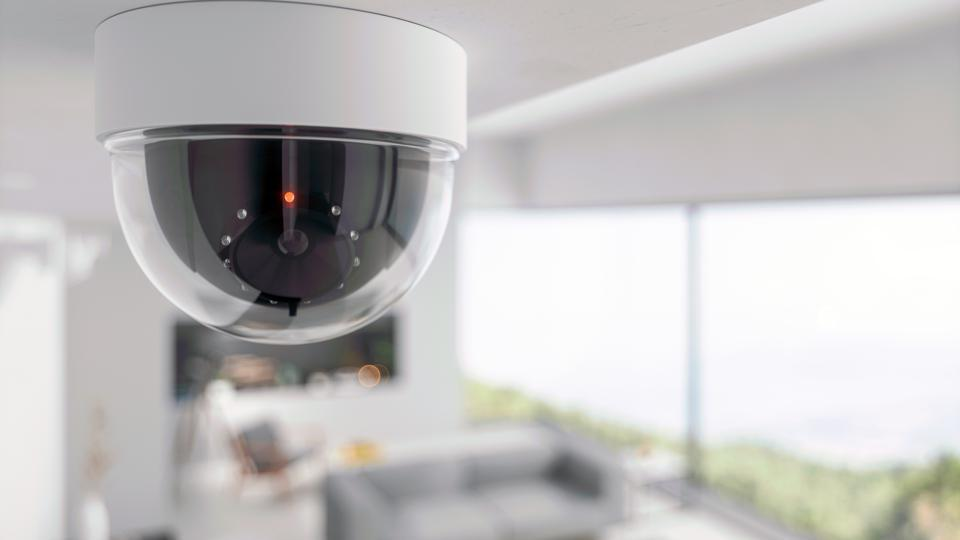CCTV: (94, 1, 467, 344)
